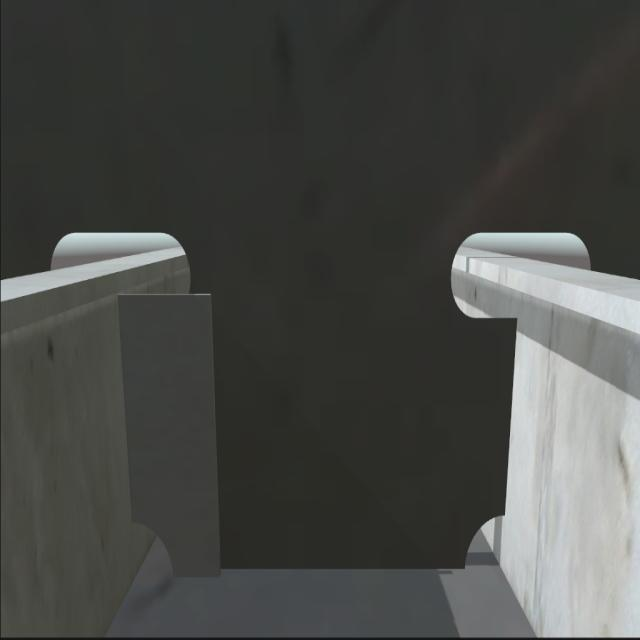fillet_hole: (133, 524, 175, 576), (466, 510, 503, 568)
fillet_yong_jeop_jang: (169, 555, 472, 585)
longi_yong_jeop_jang: (115, 282, 136, 536), (500, 311, 524, 521)
plate_CP01: (120, 292, 224, 575)
